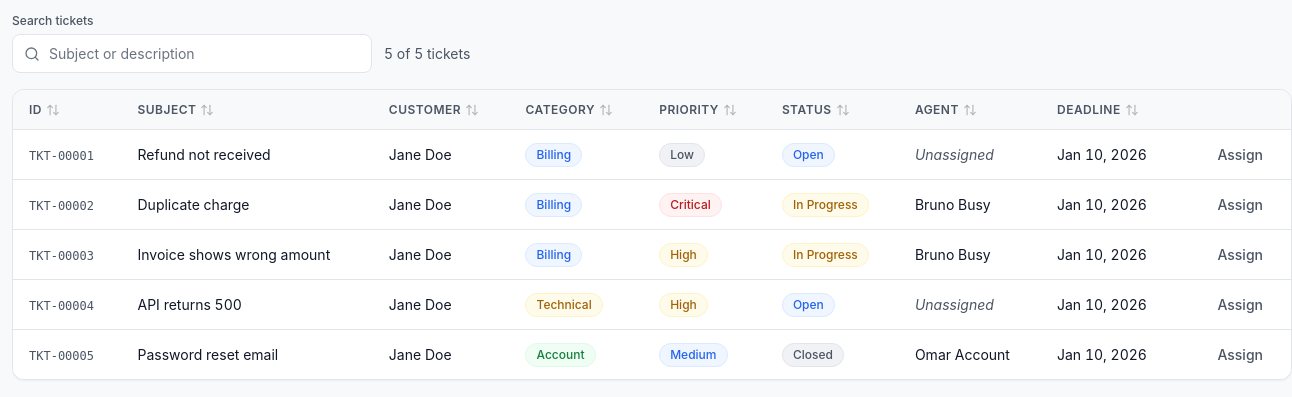
Test: TicketList › filters rows by subject and description, with a no-results message
// "webhook" only appears in TKT-00004's description.
Type "WEBHOOK" into the search field labelled "Search tickets" at (192, 54), box [12,34,372,73]
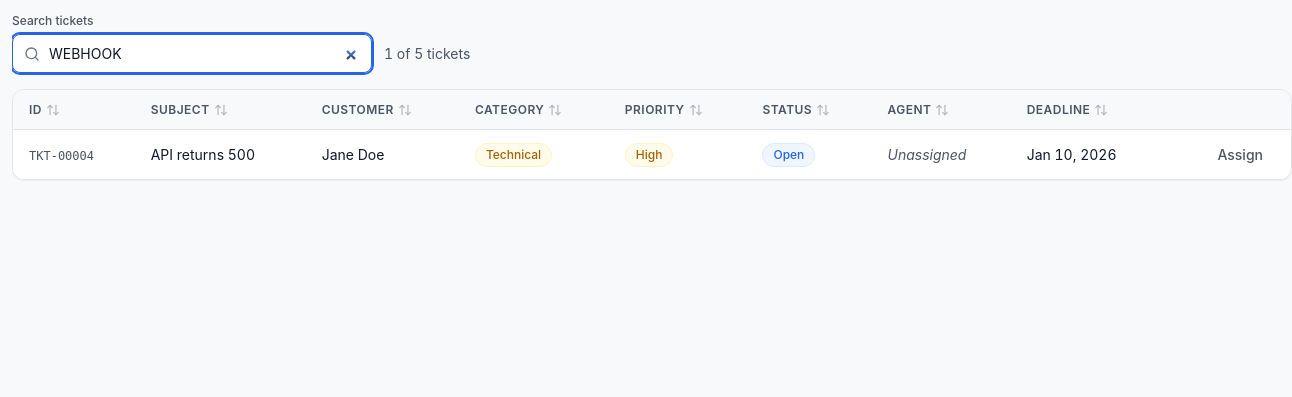
expect the cell "API returns 500" is shown: met, box [135,130,306,179]
expect the text "1 of 5 tickets" is shown: met, box [384,43,470,64]
Replace the text in the search field labelled "Search tickets" with "nothing matches this" at (192, 54), box [12,34,372,73]
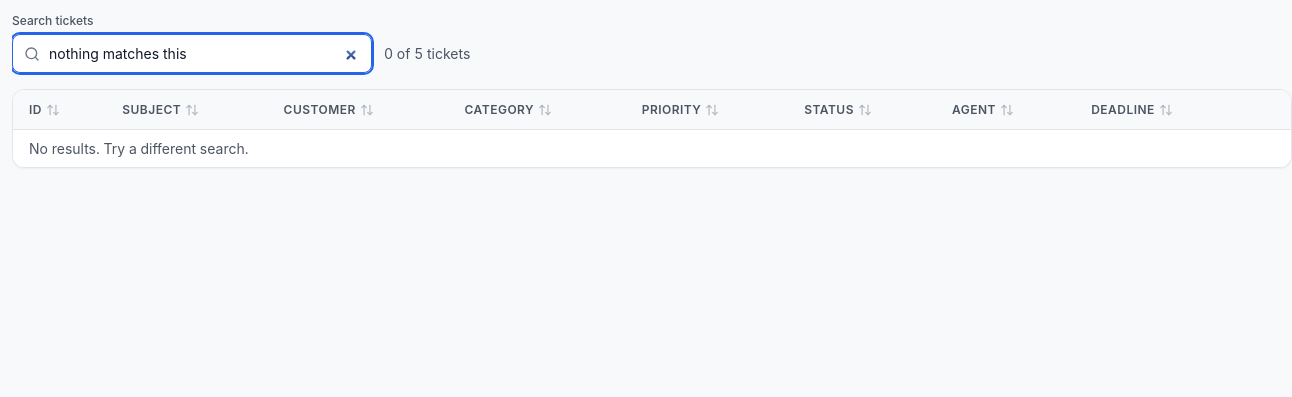
expect the text "No results. Try a different search." is shown: met, box [13,130,1291,167]
expect the text "0 of 5 tickets" is shown: met, box [384,43,470,64]
